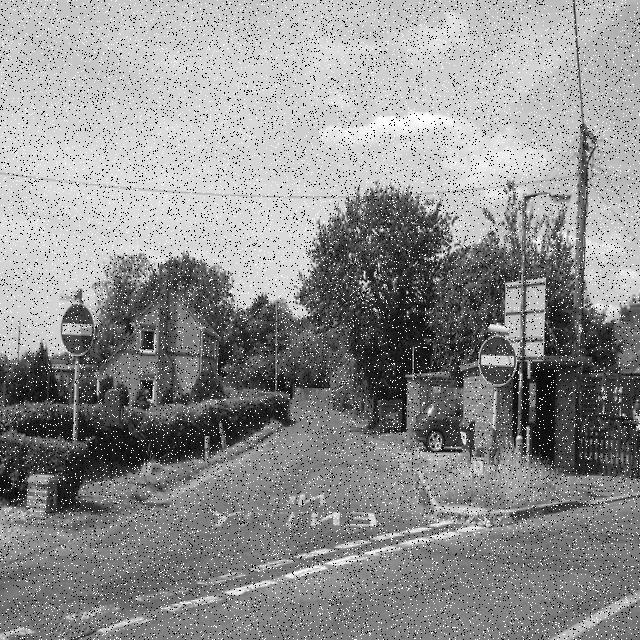no entry: (478, 335, 517, 388), (62, 303, 96, 356)
